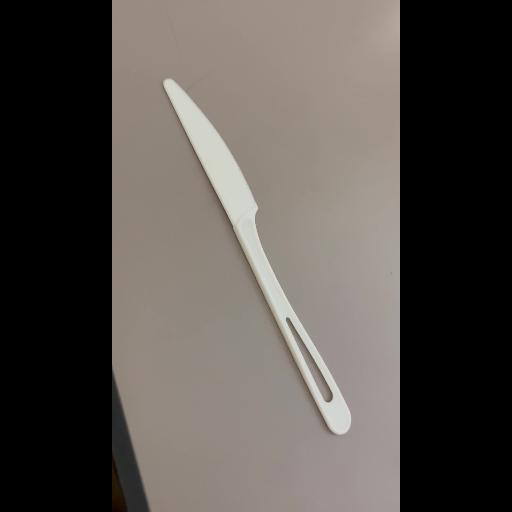utensil: (156, 74, 356, 442)
